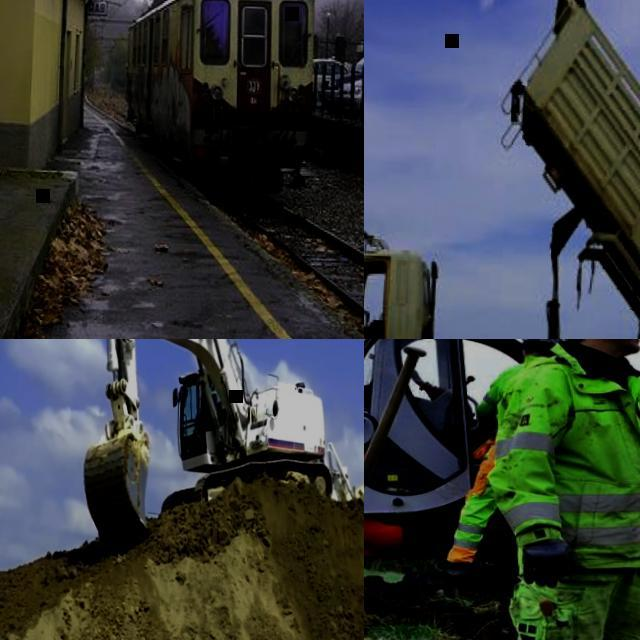vest: (488, 351, 640, 570), (464, 409, 640, 560), (489, 354, 565, 428)
